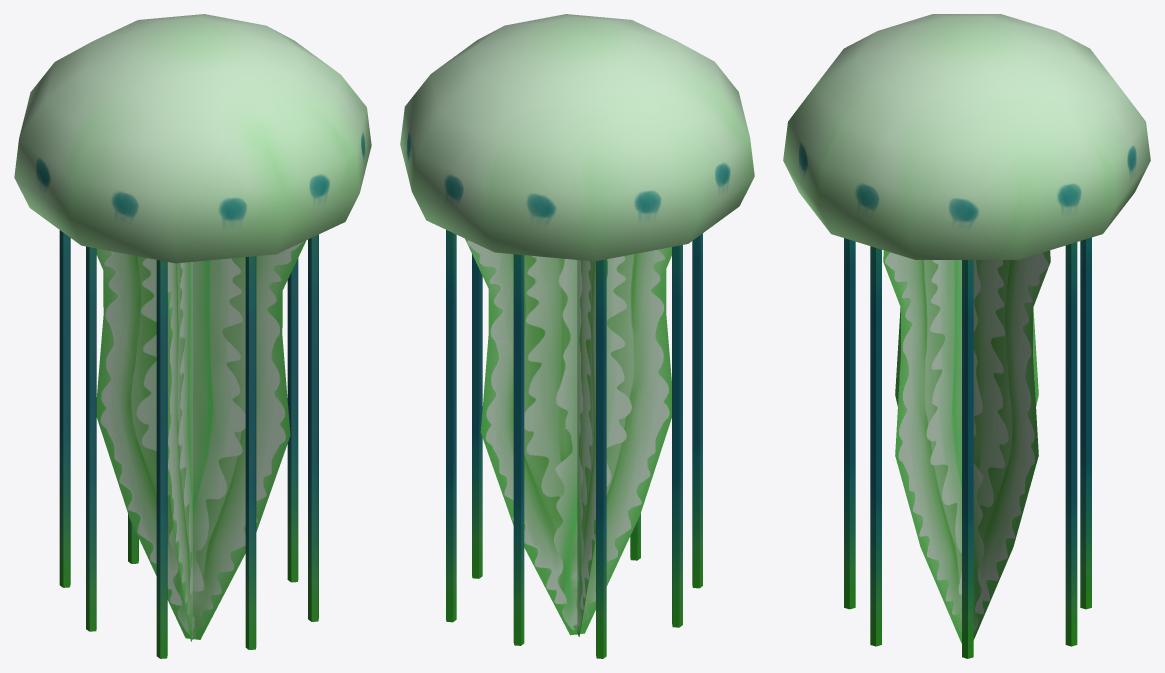
The model's file is jellyfish3.fbx.
3 renders of one model, left to right at view 1: azimuth 30°, elevation 25°; view 2: azimuth 150°, elevation 25°; view 3: azimuth 270°, elevation 25°, orthographic.
Parts seen in each view (by area): view 1: polySurface1; view 2: polySurface1; view 3: polySurface1.
Part boxes in pixels (box(x1,y1,x2,y2)): polySurface1: box(14, 14, 371, 658); polySurface1: box(400, 14, 754, 658); polySurface1: box(783, 14, 1150, 658).
Size of the model in its own units: 1.79 by 3.43 by 1.88.
1 material, 1 textured.
